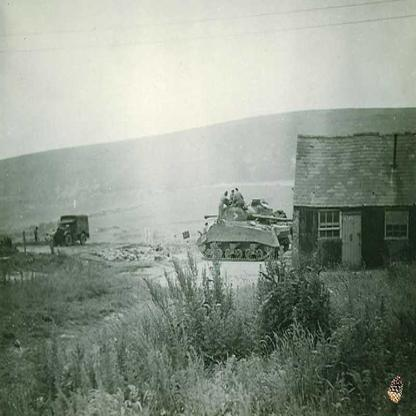Tank: (198, 188, 286, 266)
